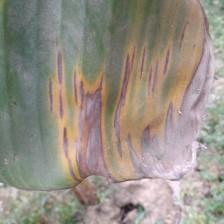sigatoka: (0, 0, 212, 191)
